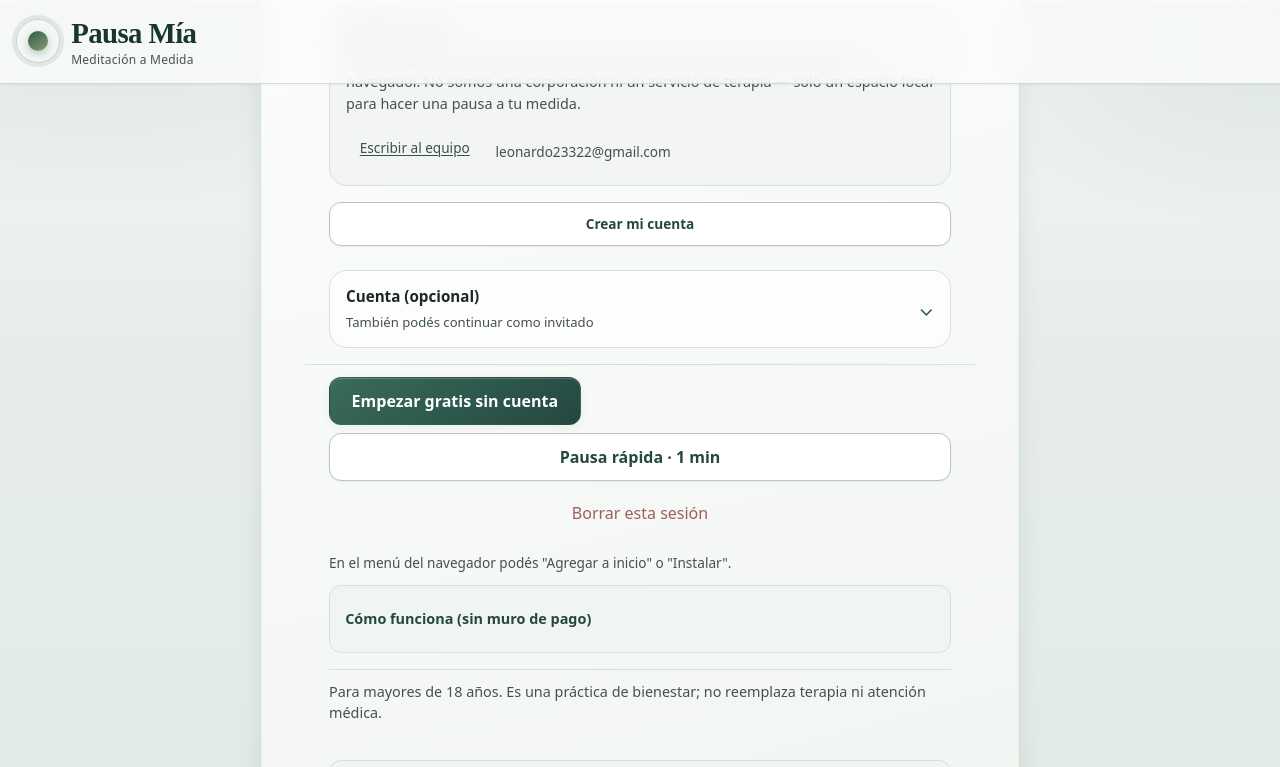
Test: App flow › keeps es-AR visible in check-in when remote endpoint is configured
(page scrolled)
Step 1. Click the button "Empezar gratis sin cuenta" → (455, 401), box 329,377 -> 581,425
(page scrolled)
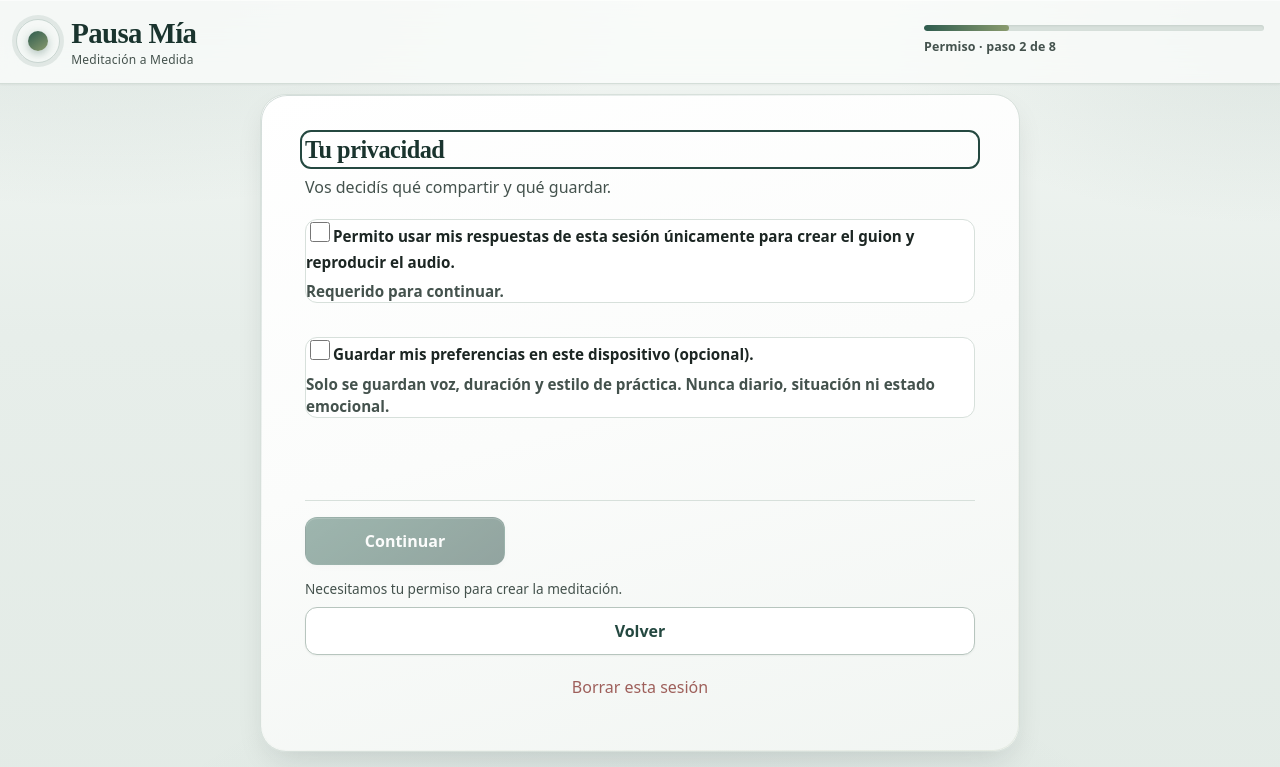
Step 2. Click the checkbox labelled "Permito usar mis respuestas de esta sesión únicamente" → (320, 232), box 310,222 -> 330,242
(page scrolled)
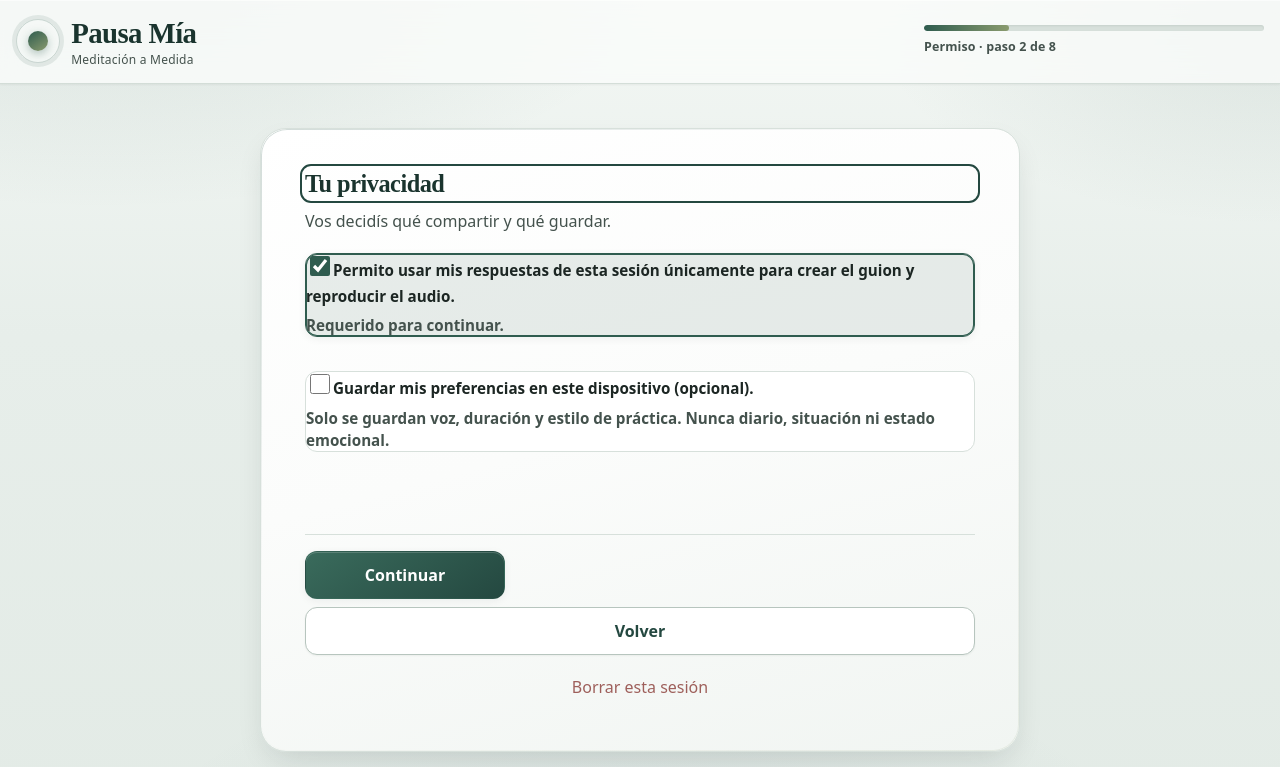
Step 3. Click the button "Continuar" → (405, 575), box 305,551 -> 505,599
(page scrolled)
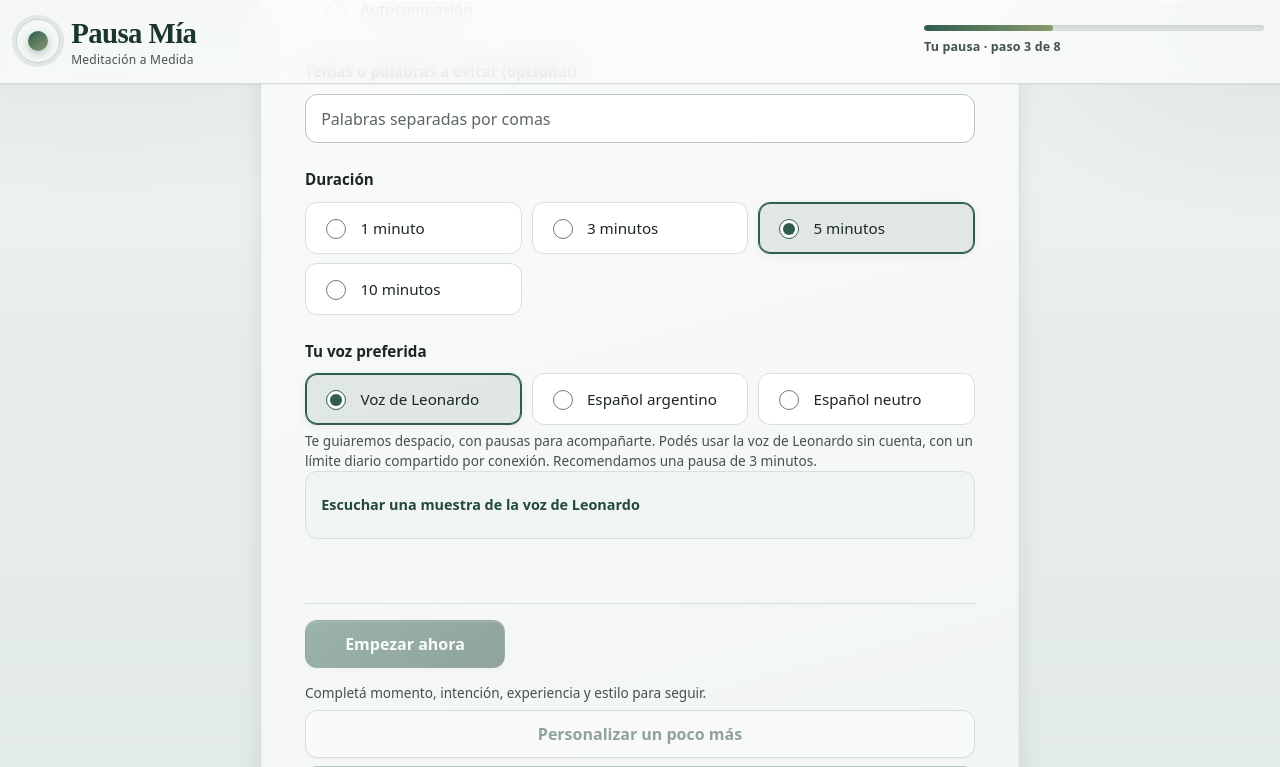
Check: the radio button labelled "Español argentino" is shown, box 553,390 -> 573,410
Check: the radio button labelled "Español neutro" is shown, box 779,390 -> 799,410
